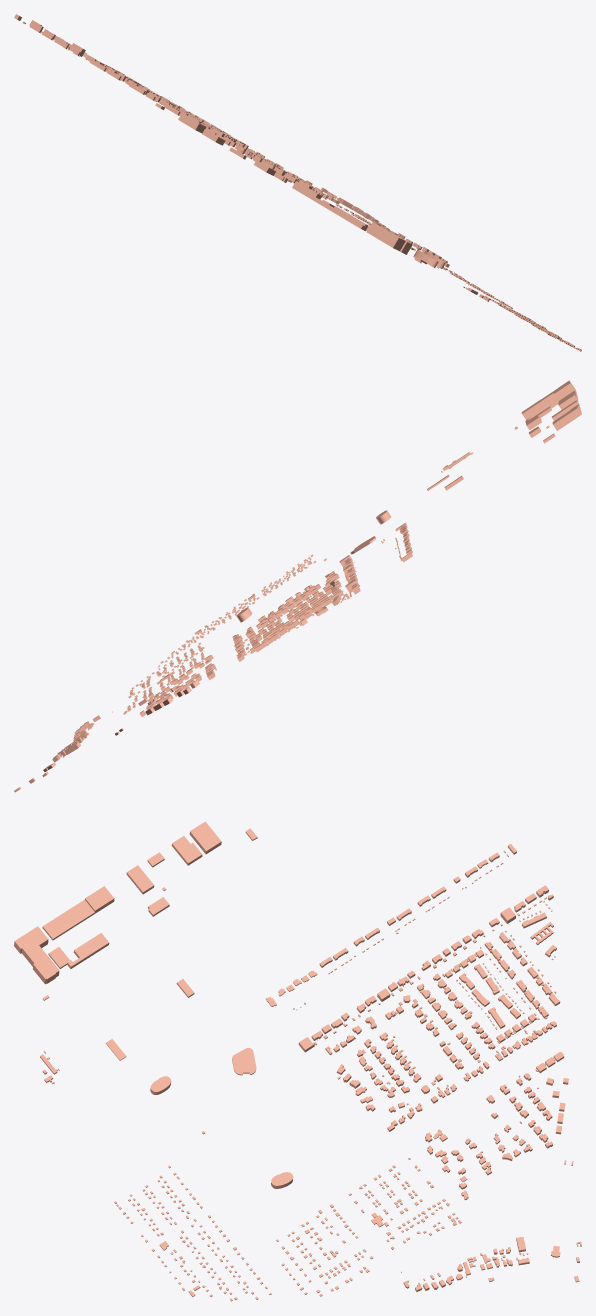
3 renders of one model, top to bottom at view 1: azimuth 30°, elevation 25°; view 2: azimuth 150°, elevation 25°; view 3: azimuth 270°, elevation 25°, orthographic. The views are drawn at different scales.
Size of the model in its own units: 965 by 770 by 1303.
